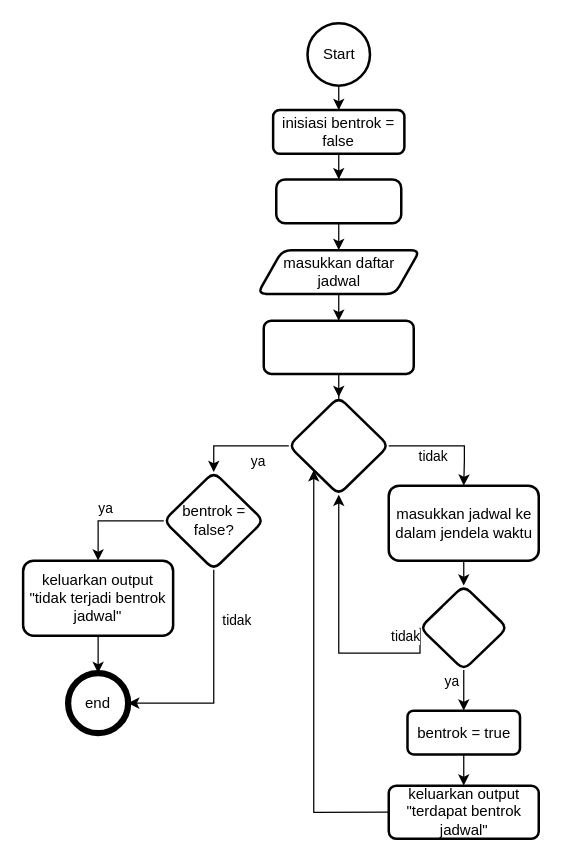
This 561x861 diagram has some shape labels left out. Each missing label, with the centre of its shape:
"i = jumlah jadwal?" goes at [338,445].
"inisiasi jendela waktu" goes at [338,201].
"masukkan setiap jadwal ke dalam jendela waktu" goes at [338,346].
"terdapat bentrok?" goes at [463,627].
